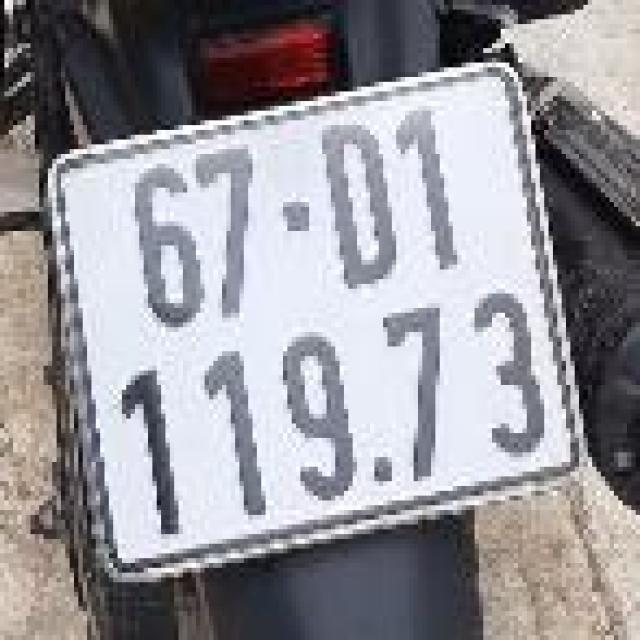1: (111, 358, 189, 542), (198, 344, 272, 522), (403, 98, 468, 276)
3: (468, 279, 551, 457)
6: (128, 159, 207, 322)
7: (379, 298, 448, 486), (196, 137, 261, 320)
9: (278, 328, 366, 500)
D: (316, 113, 407, 296)
